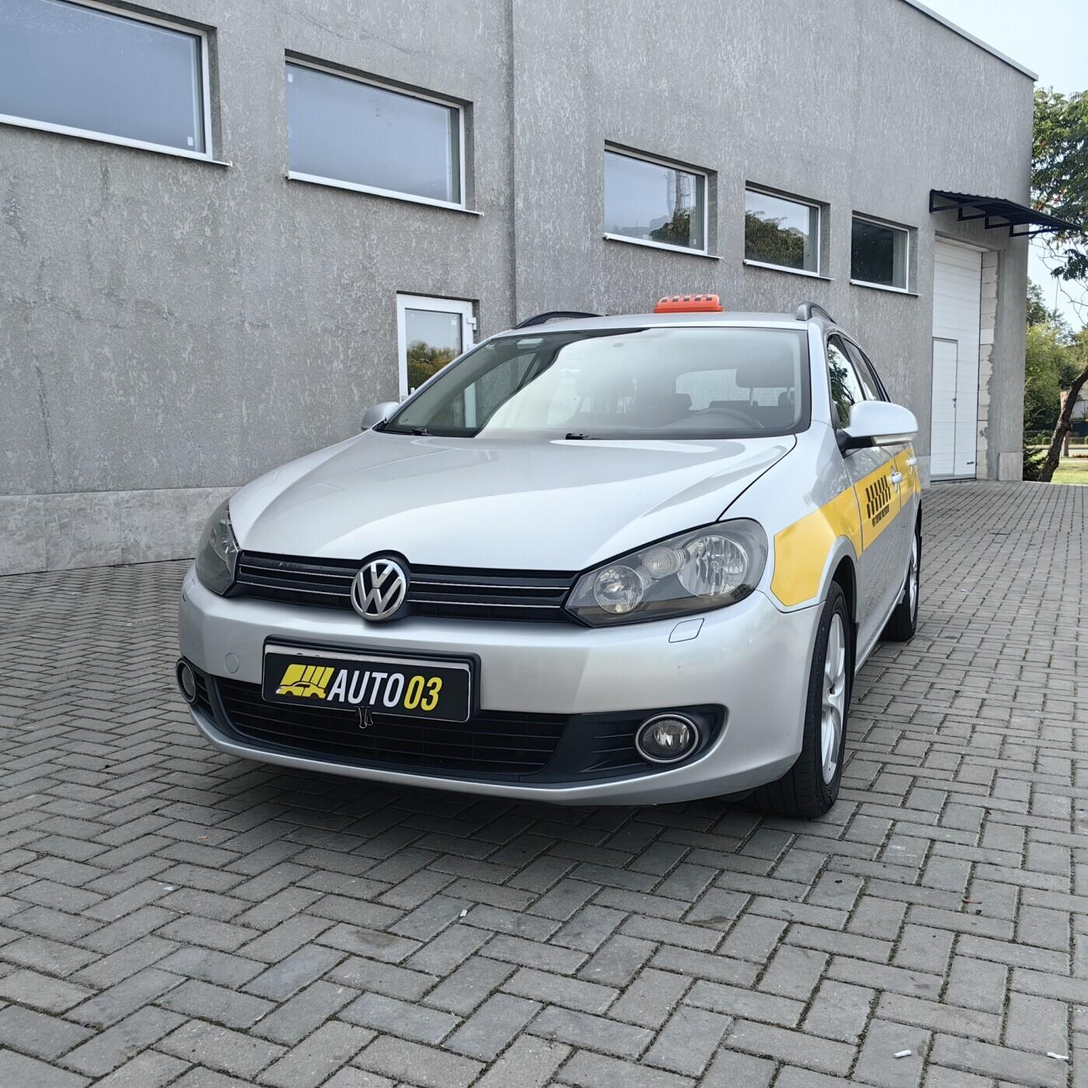Golf_2008-2013: (179, 298, 947, 814)
